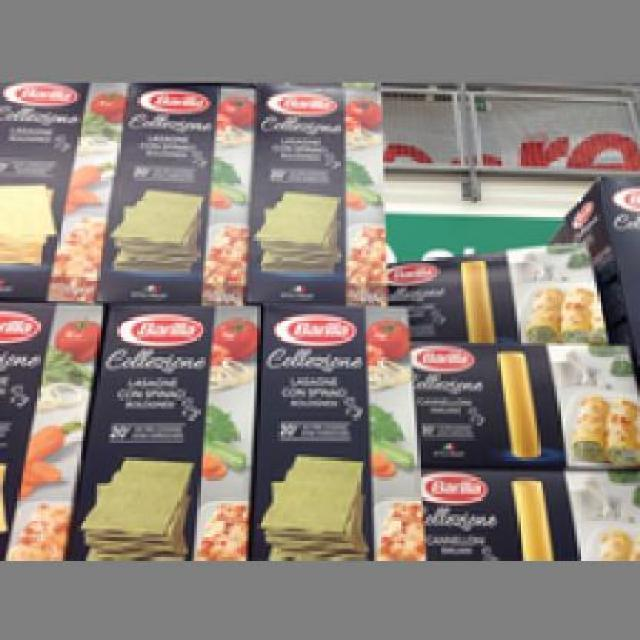Pasta: (62, 300, 258, 560), (243, 300, 423, 557), (97, 83, 254, 300), (248, 80, 386, 300), (406, 340, 634, 469), (0, 80, 126, 300), (390, 240, 606, 340)
